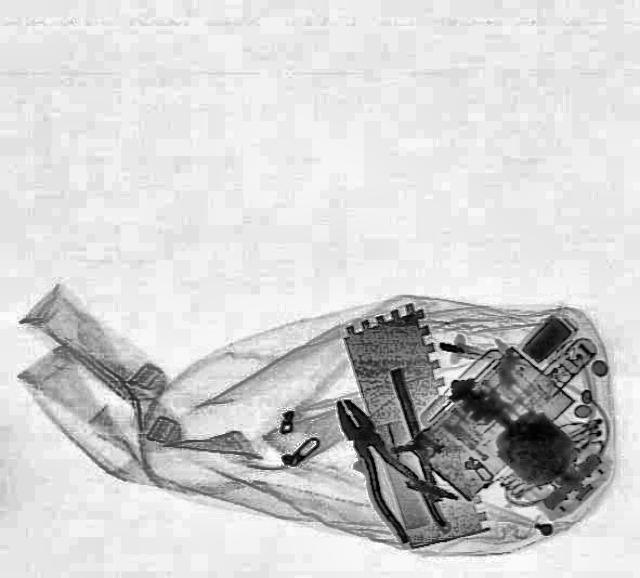Pliers: (316, 389, 448, 545)
